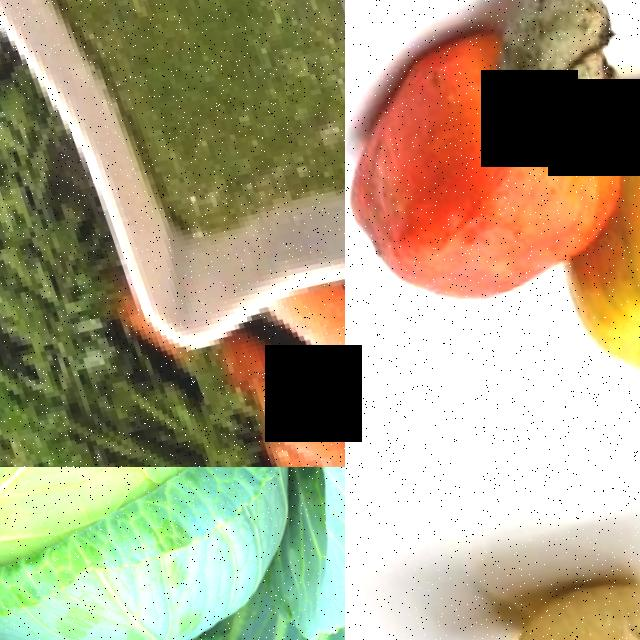cabbage: (0, 467, 345, 640)
carrot: (279, 250, 345, 438)
cashew: (394, 502, 640, 640), (475, 0, 639, 153)
